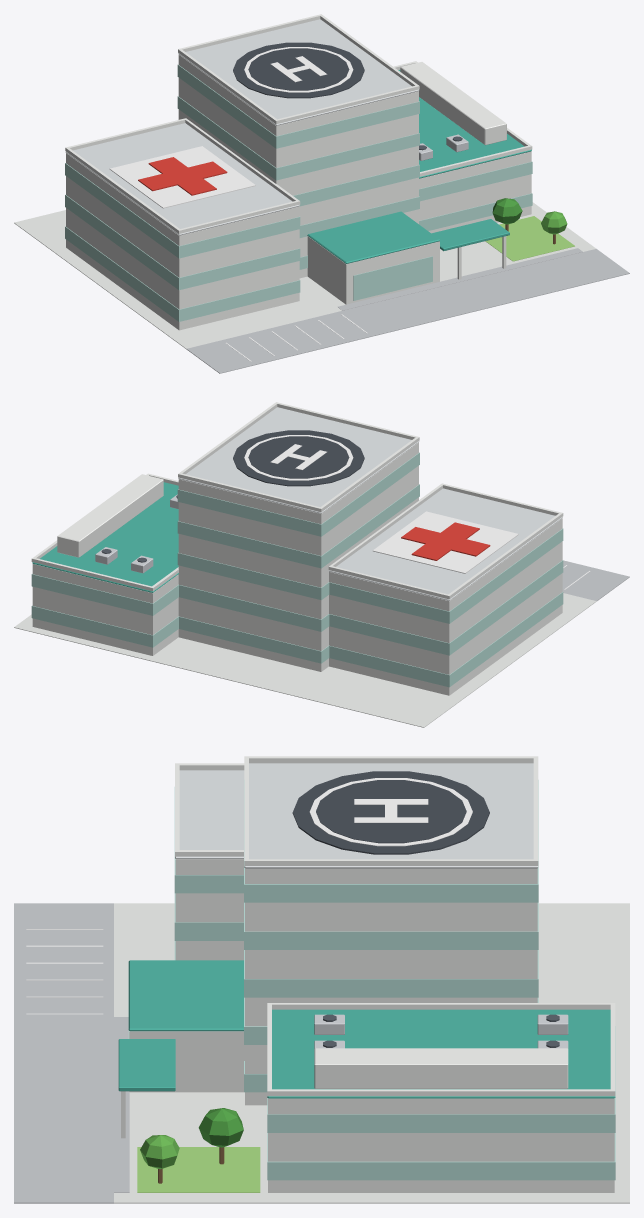
File: hospital.glb
The picture shows the model from 3 angles, top to bottom: view 1: azimuth 30°, elevation 25°; view 2: azimuth 150°, elevation 25°; view 3: azimuth 270°, elevation 25°; orthographic projection. The views are drawn at different scales.
Visible parts, largest first — view 1: hospital; view 2: hospital; view 3: hospital.
Boxes of the visible parts, bbox=[...] form: hospital: bbox=[14, 14, 629, 373]; hospital: bbox=[14, 402, 629, 727]; hospital: bbox=[14, 756, 629, 1203].
Size of the model in its own units: 46 by 17.57 by 40.
